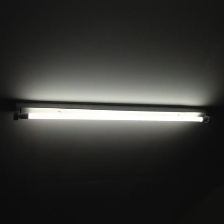light_bulb: (15, 106, 211, 127)
